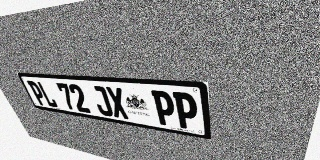2: (67, 84, 91, 113)
7: (55, 83, 78, 111)
J: (90, 85, 114, 117)
L: (36, 81, 59, 108)
P: (172, 92, 199, 131), (151, 90, 177, 127), (26, 81, 48, 106)
X: (105, 87, 130, 120)
